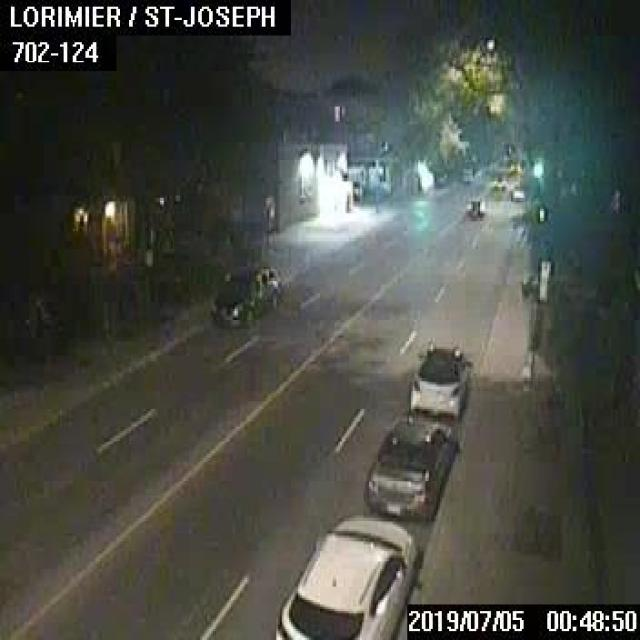vehicle: (271, 514, 417, 638), (362, 412, 457, 520), (408, 340, 471, 416), (210, 266, 279, 322), (464, 195, 484, 217), (491, 175, 505, 190), (510, 182, 523, 198)
